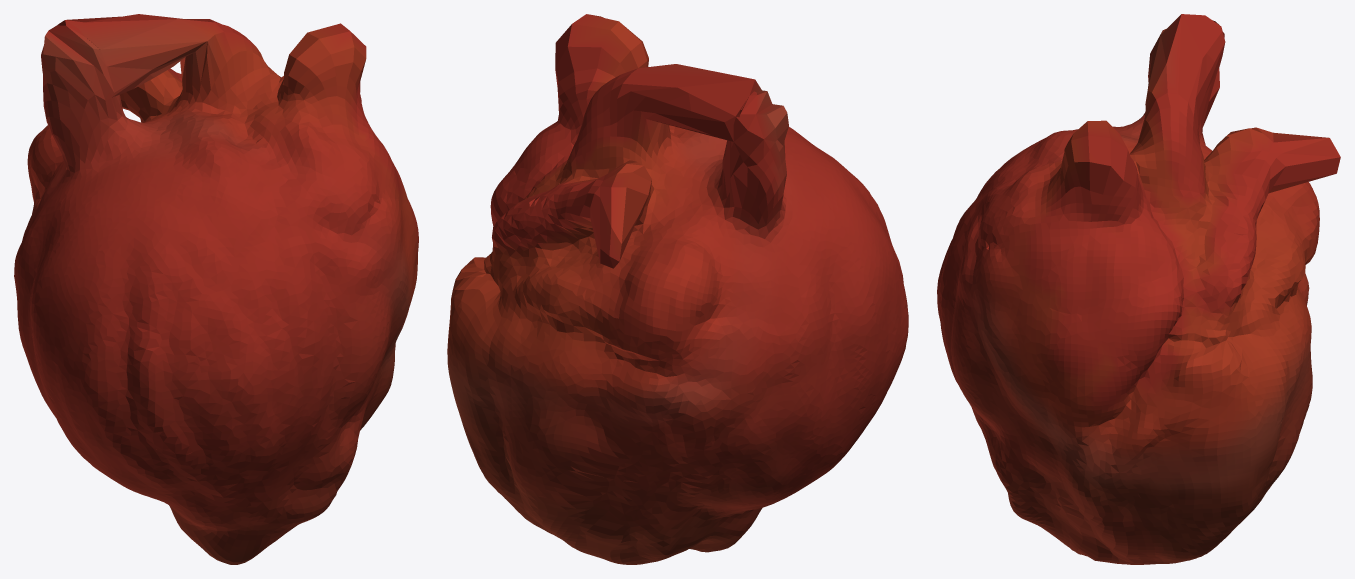
Rendered from heart.glb.
3 renders of one model, left to right at view 1: azimuth 30°, elevation 25°; view 2: azimuth 150°, elevation 25°; view 3: azimuth 270°, elevation 25°, orthographic. The views are drawn at different scales.
Visible parts, largest first — view 1: Quad Sphere; view 2: Quad Sphere; view 3: Quad Sphere.
Boxes of the visible parts, <box> form: Quad Sphere: <box>14,14,418,564</box>; Quad Sphere: <box>447,14,908,564</box>; Quad Sphere: <box>937,14,1340,564</box>.
Size of the model in its own units: 2.8 by 3.83 by 2.85.
